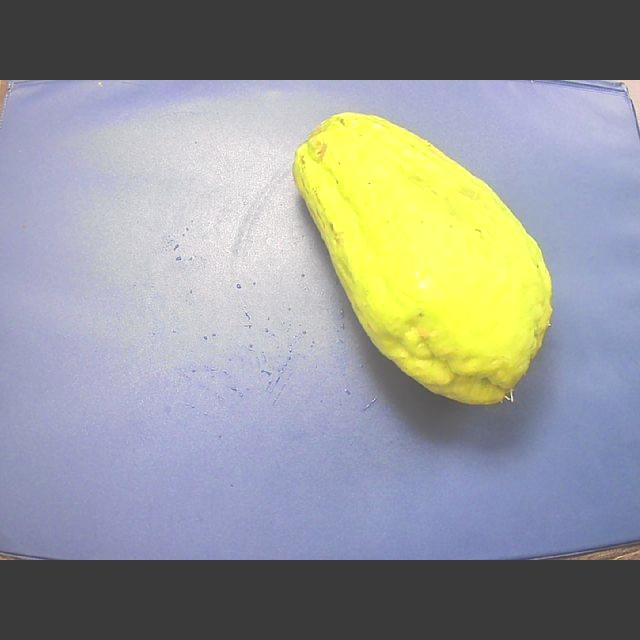chayote: (292, 112, 551, 404)
